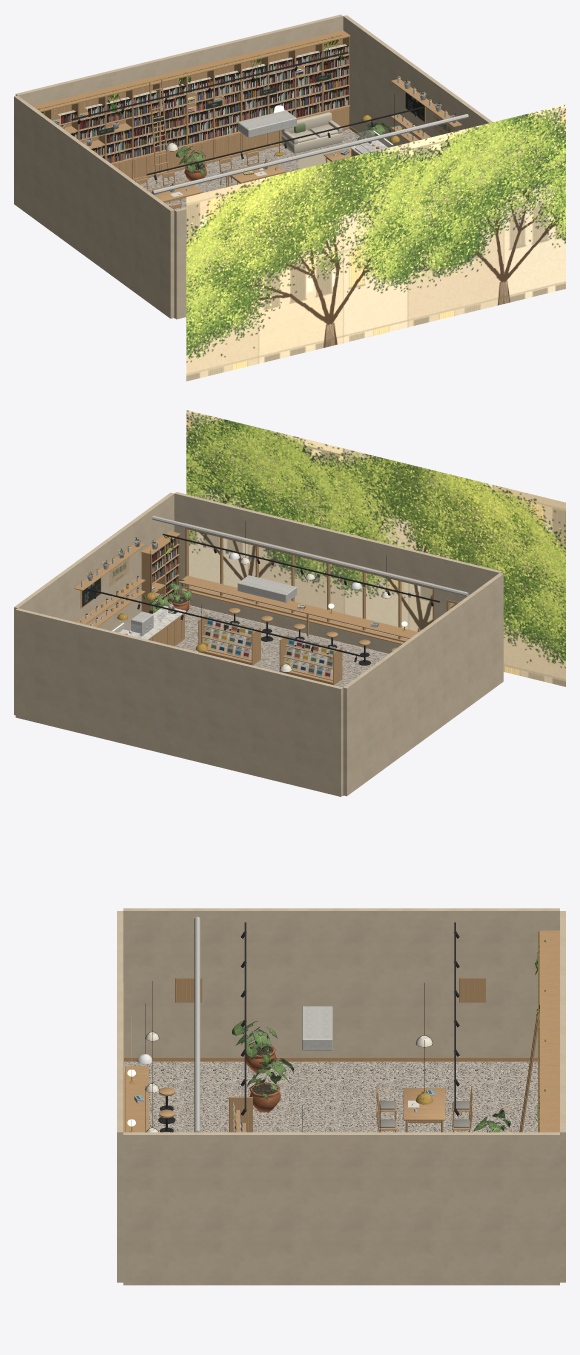
Rendered from yejian.glb.
3 renders of one model, top to bottom at view 1: azimuth 30°, elevation 25°; view 2: azimuth 150°, elevation 25°; view 3: azimuth 270°, elevation 25°, orthographic. The views are drawn at different scales.
Visible parts, largest first — view 1: WALL_front_VIEW_yej_window_view, WALL_left_yej_wall, yej_wood, yej_books, WALL_right_yej_wall, WALL_back_yej_wall, yej_steel, yej_floor, yej_fab_linen, yej_blackmetal, WALL_front_yej_wall, yej_print (+3 smaller); view 2: WALL_front_VIEW_yej_window_view, WALL_back_yej_wall, WALL_left_yej_wall, WALL_front_yej_wall, yej_wood, WALL_right_yej_wall, yej_floor, WALL_front_yej_wood, yej_steel, yej_print, yej_blackmetal, yej_books (+3 smaller); view 3: WALL_right_yej_wall, WALL_left_yej_wall, yej_floor, yej_wood, WALL_left_yej_wood, yej_steel, WALL_front_yej_wall, WALL_back_yej_wall, yej_blackmetal, S_ph_potted_plant_02_3, S_ph_potted_plant_02_0.
Boxes of the visible parts, x1,y1,x2,y2 form: WALL_front_VIEW_yej_window_view: (186,104,565,381); WALL_left_yej_wall: (14,95,174,318); yej_wood: (32,30,461,208); yej_books: (49,44,348,162); WALL_right_yej_wall: (343,15,492,147); WALL_back_yej_wall: (15,14,343,105); yej_steel: (152,110,468,194); yej_floor: (139,129,363,318); yej_fab_linen: (281,112,342,153); yej_blackmetal: (71,51,423,180); WALL_front_yej_wall: (174,207,186,319); yej_print: (52,69,349,194); WALL_front_VIEW_yej_window_view: (186,410,565,686); WALL_back_yej_wall: (15,608,343,796); WALL_left_yej_wall: (343,573,503,796); WALL_front_yej_wall: (174,492,501,653); yej_wood: (74,531,418,702); WALL_right_yej_wall: (14,492,174,715); yej_floor: (175,605,388,795); WALL_front_yej_wood: (181,523,458,644); yej_steel: (131,515,468,635); yej_print: (152,586,378,678); yej_blackmetal: (87,521,439,672); yej_books: (152,536,178,612); WALL_right_yej_wall: (123,1132,559,1285); WALL_left_yej_wall: (123,908,559,1057); yej_floor: (124,1061,539,1132); yej_wood: (125,930,559,1132); WALL_left_yej_wood: (124,978,539,1061); yej_steel: (194,916,332,1132); WALL_front_yej_wall: (117,911,123,1282); WALL_back_yej_wall: (560,911,565,1282); yej_blackmetal: (145,922,459,1132); S_ph_potted_plant_02_3: (247,1058,293,1112); S_ph_potted_plant_02_0: (232,1020,277,1072).
Size of the model in its own units: 14 by 6.5 by 12.64.
28 materials, 24 textured.
